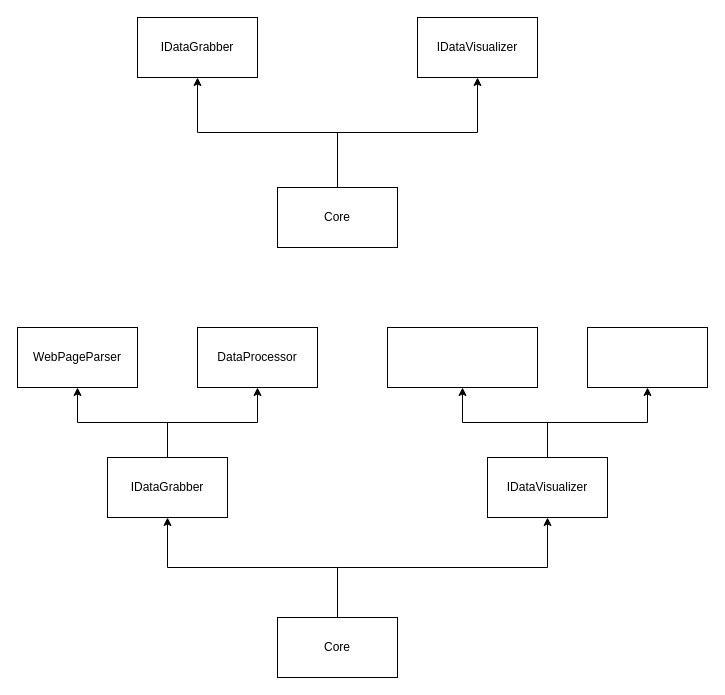
The diagram is 725 pixels wide and 695 high, and some of its shapes have lost their labels. The box of each missing label's shape, as (x1, y1, x2, y2) in pixels:
LineChartConstructor: (386, 326, 538, 388)
LineChartView: (586, 326, 708, 388)
